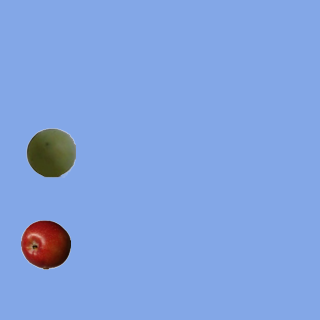Apple Braeburn: (20, 219, 70, 269)
Grape White 4: (25, 127, 75, 177)
